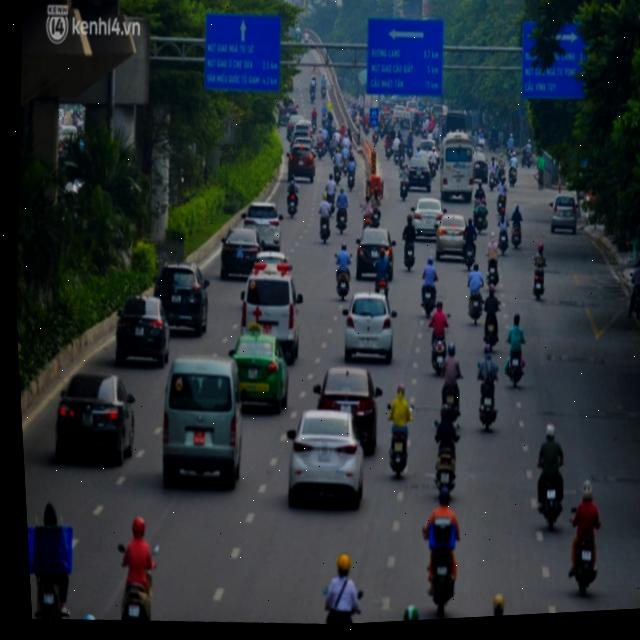car: (153, 353, 248, 493), (47, 364, 141, 468), (281, 405, 371, 509), (234, 259, 307, 358), (307, 361, 384, 453), (221, 329, 297, 418), (149, 257, 214, 340), (338, 287, 402, 369), (112, 294, 172, 368), (436, 134, 478, 206), (215, 223, 263, 285), (284, 139, 322, 190)
motorcycle: (425, 545, 462, 616), (428, 439, 465, 507), (570, 534, 602, 599), (434, 380, 467, 431), (117, 580, 156, 622), (32, 569, 64, 620), (474, 382, 500, 437), (383, 430, 412, 478), (538, 478, 564, 530), (479, 310, 505, 356), (503, 345, 528, 389), (426, 330, 451, 374), (528, 263, 553, 305), (463, 290, 486, 324), (334, 270, 353, 303), (418, 286, 436, 320), (459, 240, 478, 270), (483, 258, 502, 286), (496, 228, 512, 261), (509, 223, 525, 254), (401, 241, 418, 270), (315, 214, 331, 244), (629, 282, 640, 321)
